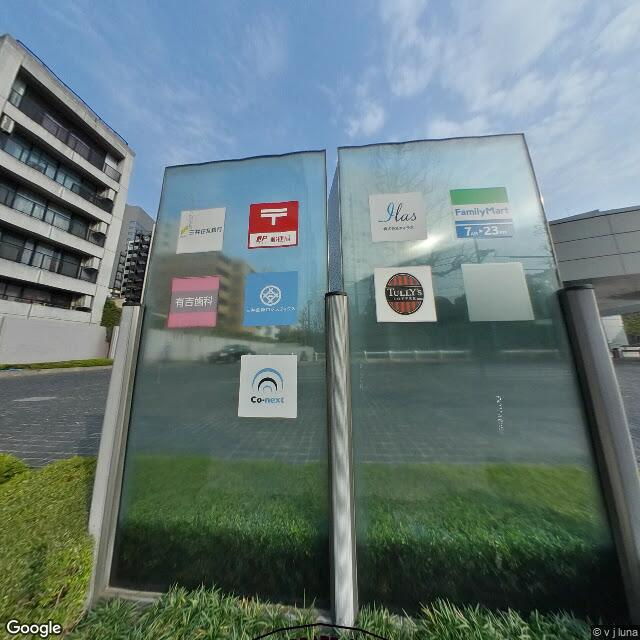family_mart: (447, 183, 511, 241)
